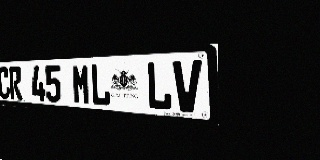4: (31, 65, 46, 102)
5: (45, 65, 62, 103)
C: (0, 67, 10, 99)
L: (146, 61, 172, 111), (90, 63, 111, 106)
M: (72, 64, 91, 105)
R: (9, 66, 22, 100)
V: (173, 60, 202, 113)
